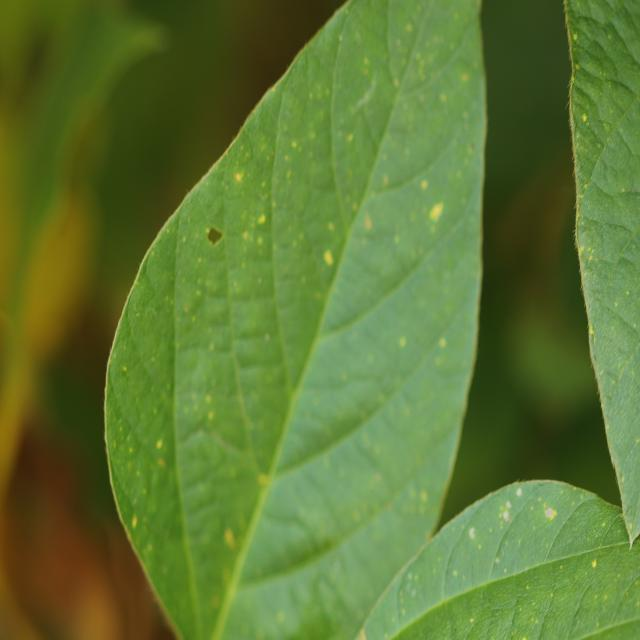Soybean: (101, 0, 559, 640)
downey_mildew: (470, 508, 620, 632), (363, 143, 458, 278), (109, 332, 173, 485), (322, 434, 405, 521), (418, 155, 463, 309), (399, 15, 468, 107), (223, 182, 276, 284), (180, 364, 231, 445), (476, 485, 535, 550), (219, 124, 271, 196), (182, 255, 217, 316), (395, 477, 434, 521), (605, 345, 639, 390), (497, 498, 517, 531), (541, 502, 558, 521), (428, 202, 443, 222), (323, 250, 333, 265), (364, 214, 372, 230), (419, 489, 428, 503), (258, 474, 268, 486), (276, 611, 285, 624), (398, 336, 407, 348), (257, 213, 266, 225), (439, 92, 448, 103), (234, 171, 243, 182), (382, 174, 389, 187), (421, 179, 428, 191), (461, 72, 469, 82), (207, 410, 214, 421), (577, 143, 583, 155), (205, 394, 212, 404), (156, 439, 163, 449), (589, 325, 595, 336), (347, 133, 353, 143), (394, 234, 400, 244), (393, 78, 399, 88), (257, 236, 263, 245), (572, 33, 578, 42), (582, 113, 587, 122), (292, 140, 297, 149), (243, 231, 248, 240), (579, 246, 584, 254), (588, 247, 593, 254), (184, 305, 189, 312), (122, 365, 127, 372), (453, 570, 458, 577), (588, 255, 593, 261), (579, 193, 584, 199), (601, 521, 606, 527), (191, 315, 195, 322), (129, 447, 133, 454), (182, 236, 186, 243), (584, 182, 588, 189), (478, 543, 482, 550), (626, 290, 630, 296), (615, 301, 619, 307), (599, 370, 603, 376), (608, 34, 612, 40), (637, 323, 640, 329), (526, 584, 529, 590)
